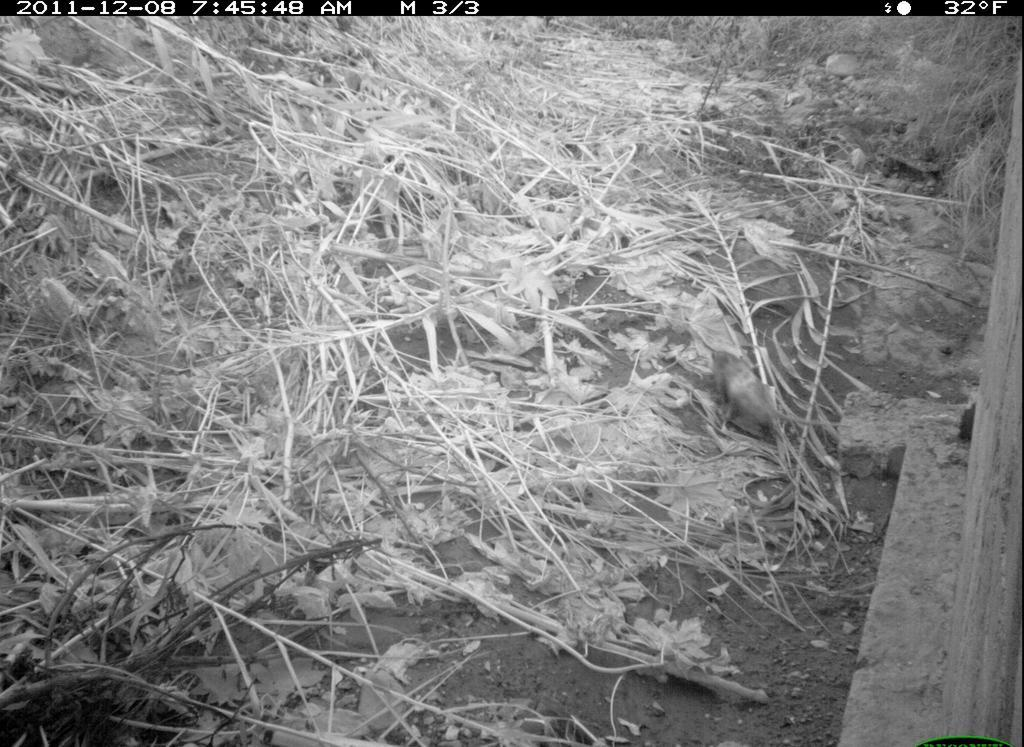opossum: (705, 338, 858, 447)
